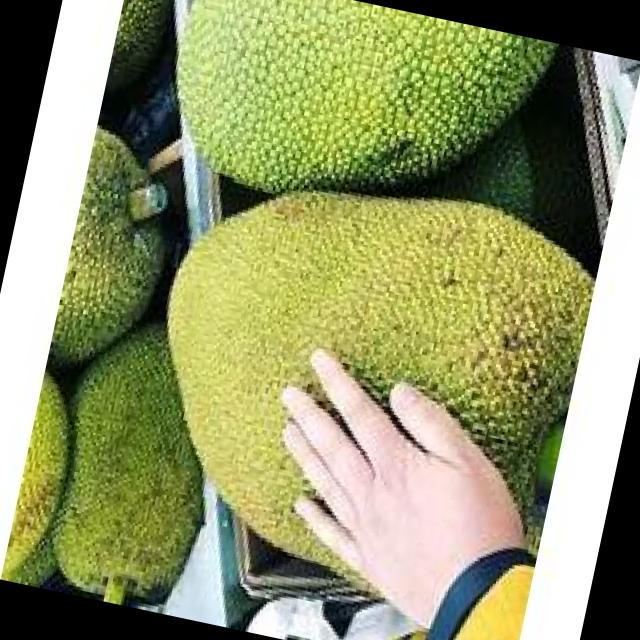Fruit: (129, 108, 609, 512), (126, 0, 582, 283)
